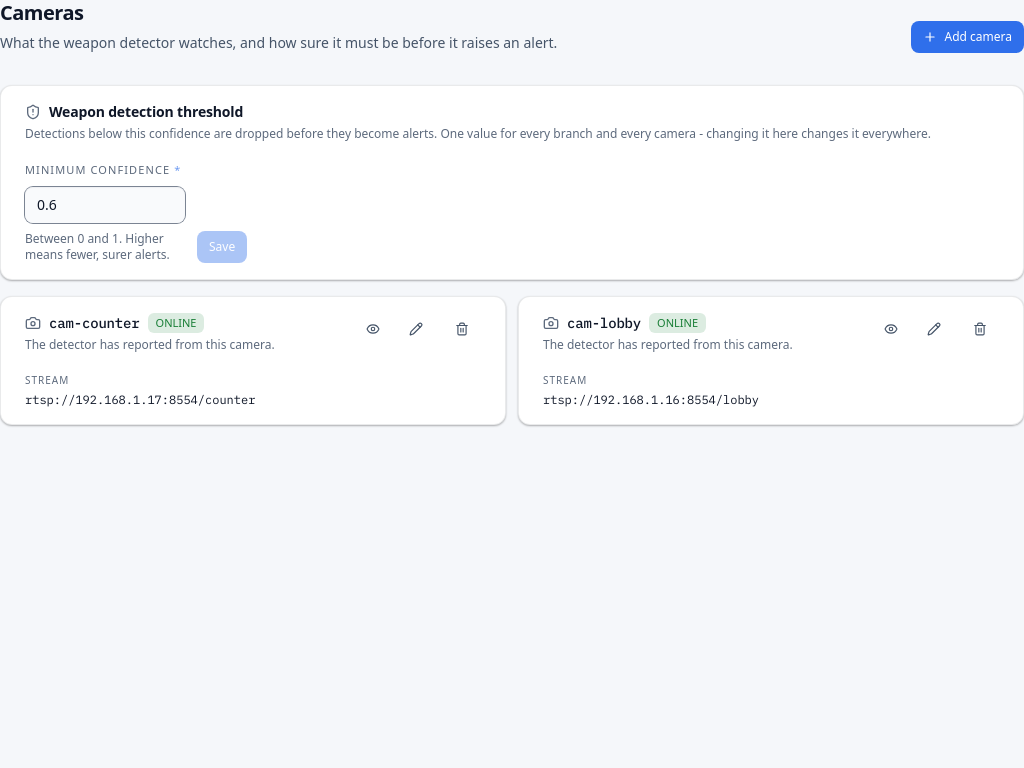
Scenario: Cameras › renames a camera in place
Expected: the heading "cam-counter" is shown, top-left (49, 313), bottom-right (140, 333)
Click the button named "Edit cam-counter" at (416, 328), box top-left (397, 312), bottom-right (435, 344)
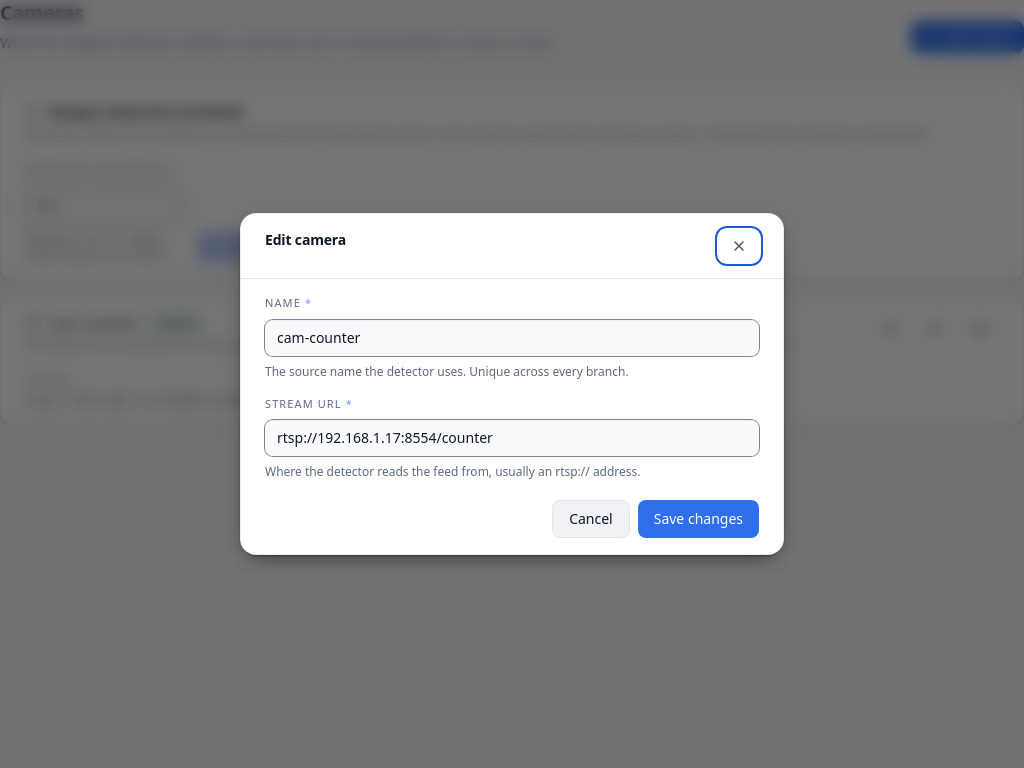
Replace the text in the field labelled "Name*" with "cam-counter-2" at (512, 338), box top-left (265, 320), bottom-right (759, 356)
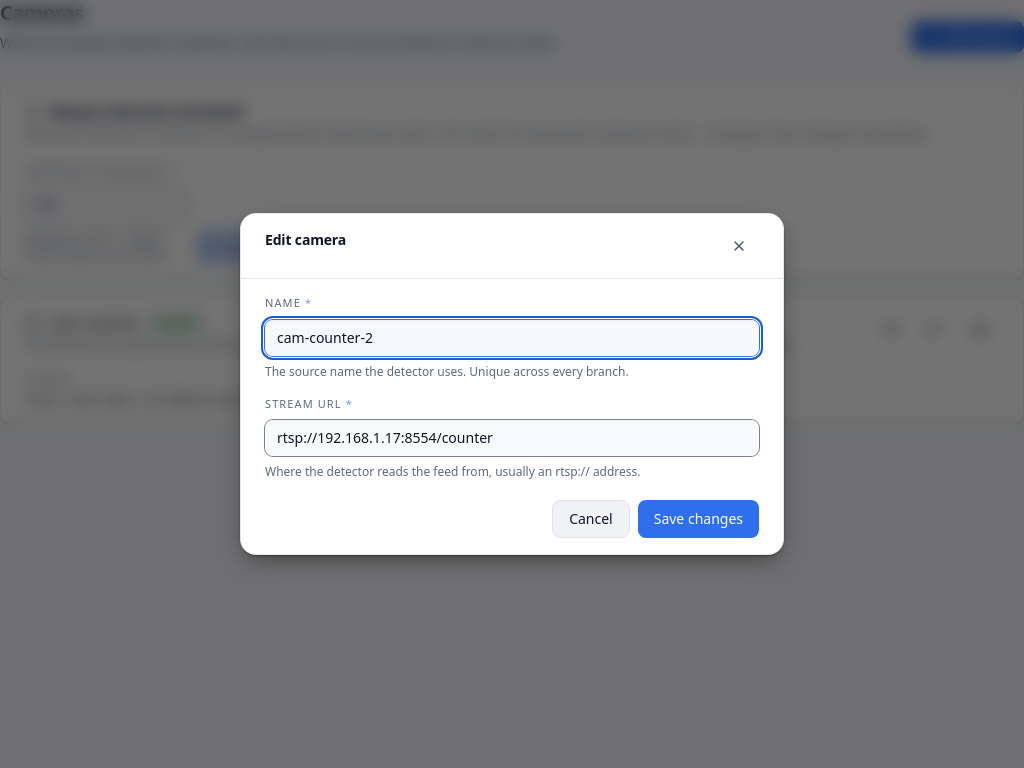
Click the button "Save changes" at (698, 519), box top-left (638, 500), bottom-right (759, 538)
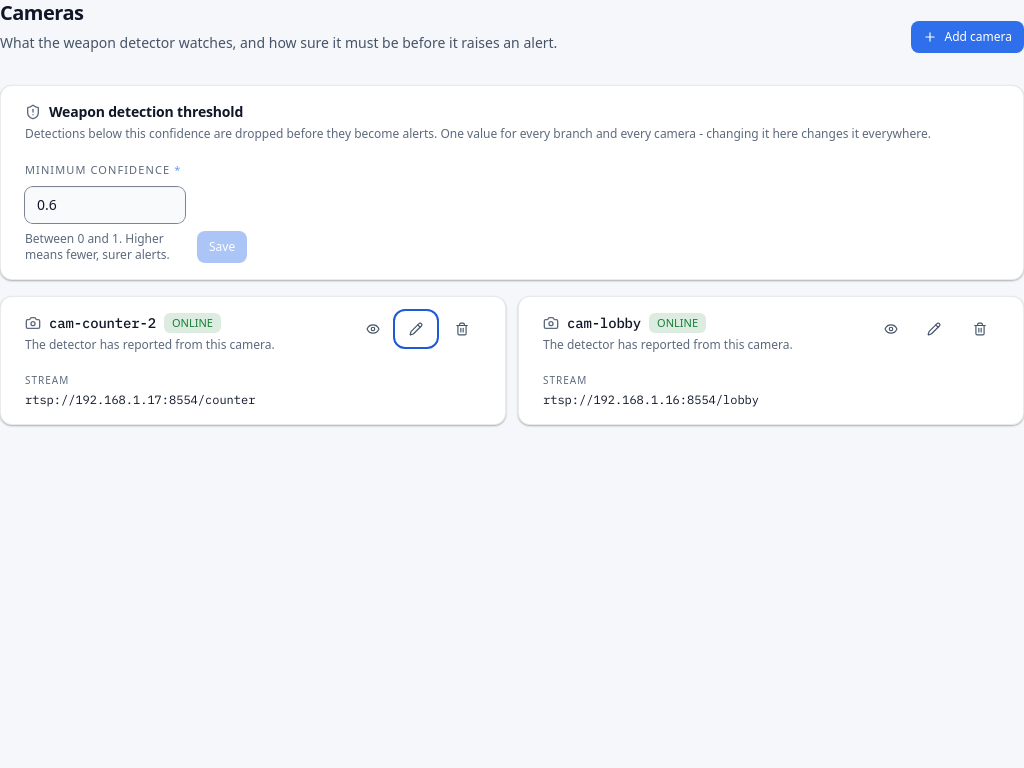
Expected: the heading "cam-counter-2" is shown, top-left (49, 313), bottom-right (156, 333)
